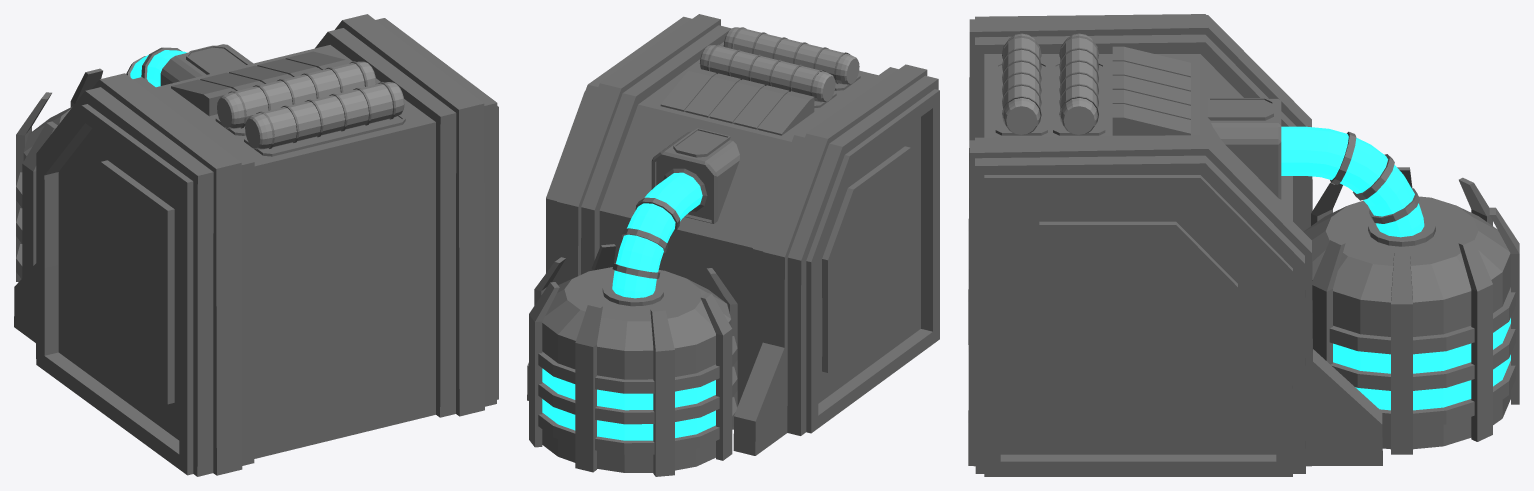
Rendered from Generator_8_12_8_mesh.glb.
3 views of the same model, side by side, from view 1: azimuth 30°, elevation 25°; view 2: azimuth 150°, elevation 25°; view 3: azimuth 270°, elevation 25° (orthographic). The views are drawn at different scales.
Visible parts, largest first — view 1: Generator_8_12_8_mesh; view 2: Generator_8_12_8_mesh; view 3: Generator_8_12_8_mesh.
Part boxes in pixels (bbox=[...]): Generator_8_12_8_mesh: bbox=[14, 14, 498, 476]; Generator_8_12_8_mesh: bbox=[527, 14, 939, 476]; Generator_8_12_8_mesh: bbox=[968, 14, 1519, 476].
Size of what is drawn, in the model's own units: 8 by 8 by 12.
